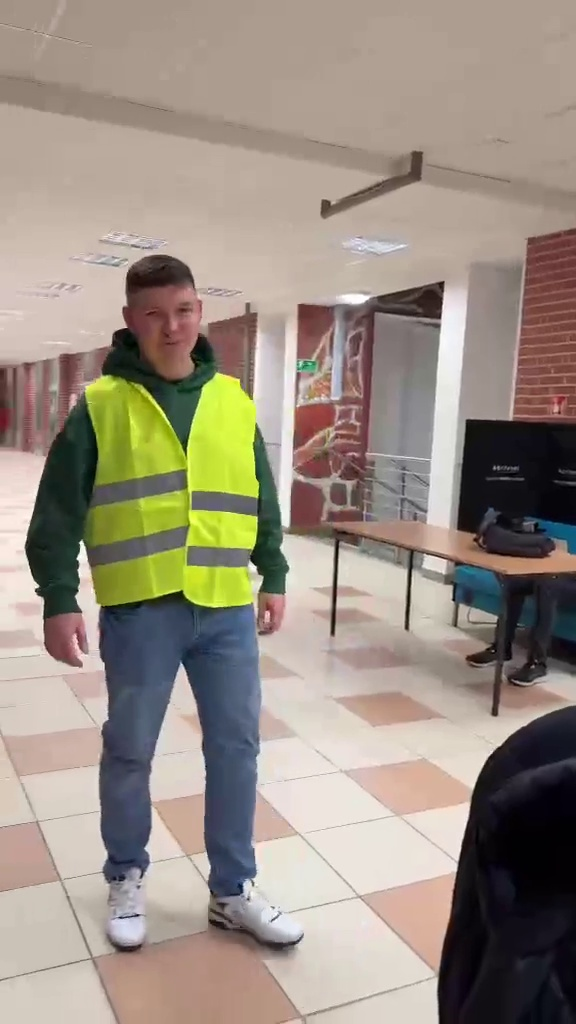vest: (35, 252, 319, 951)
